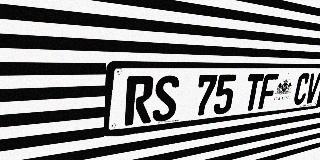5: (213, 74, 237, 115)
7: (192, 75, 218, 117)
C: (292, 73, 311, 105)
F: (258, 74, 279, 109)
R: (124, 76, 154, 126)
S: (152, 75, 180, 122)
T: (242, 74, 264, 111)
V: (304, 73, 320, 104)
